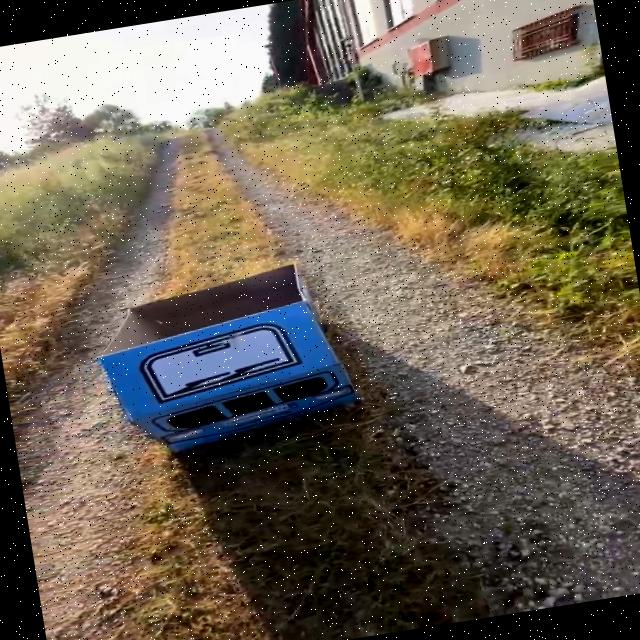blue_car: (57, 230, 427, 500)
